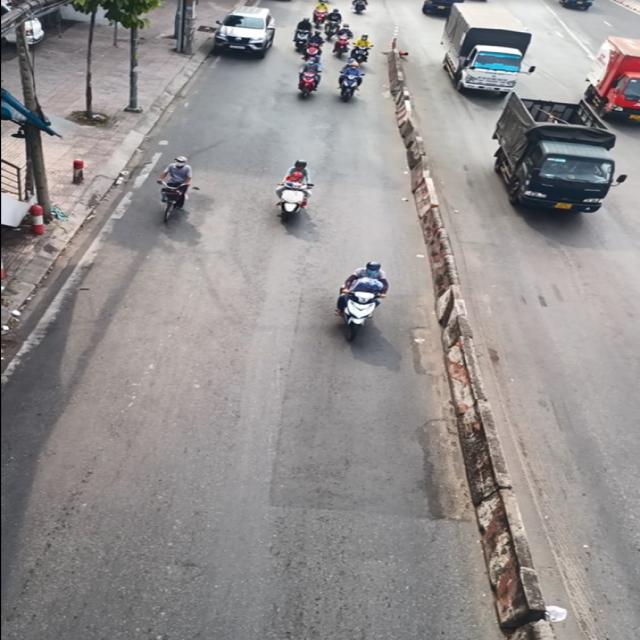car: (217, 5, 274, 58)
motor: (326, 250, 396, 345), (144, 152, 216, 226), (261, 152, 320, 228)
truck: (487, 89, 629, 227), (432, 3, 529, 96)
